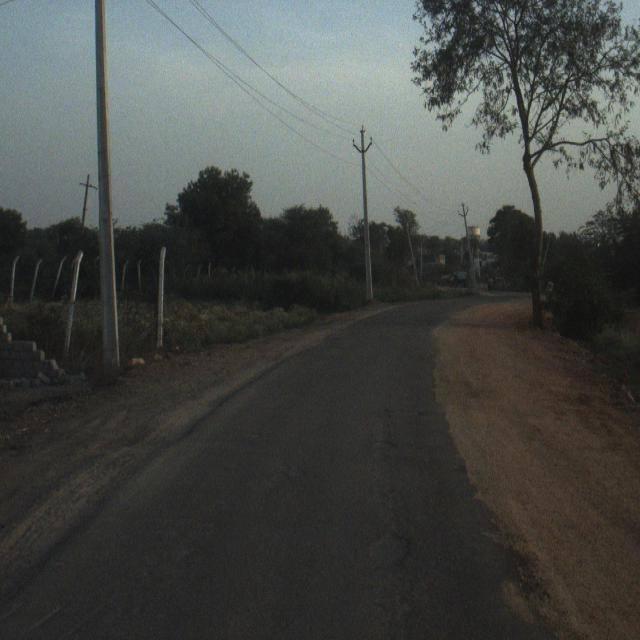Pothole: (366, 521, 418, 582), (358, 433, 403, 473)
